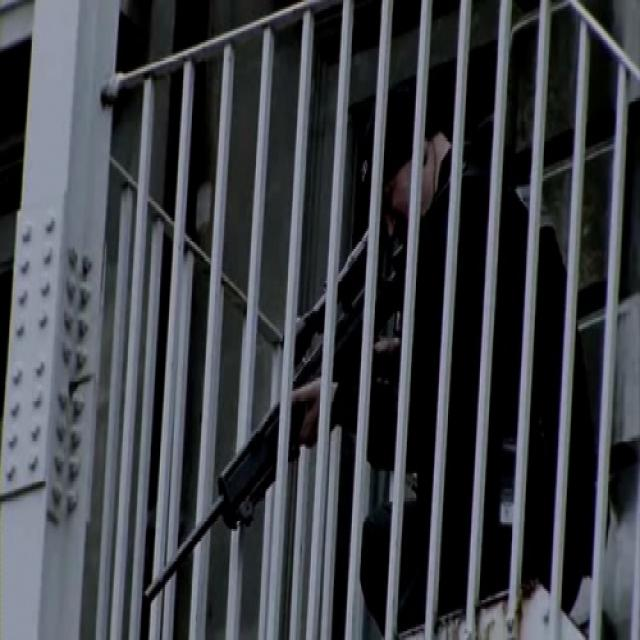rifle: (145, 228, 411, 605)
